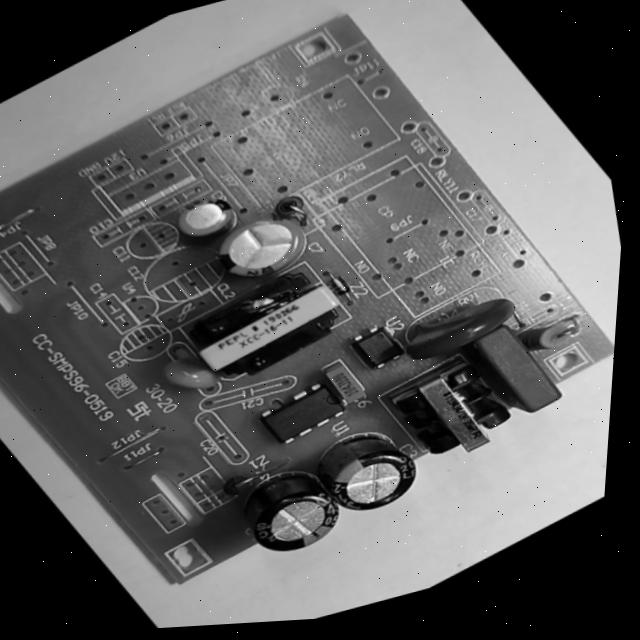Cap1: (178, 184, 345, 307)
Cap2: (144, 167, 271, 267)
Cap3: (285, 397, 446, 540)
Cap4: (202, 432, 376, 586)
MOSFET: (236, 365, 371, 463)
Mov: (369, 260, 548, 391)
Resistor: (503, 298, 602, 370)
Transformer: (146, 239, 381, 414), (360, 329, 547, 489)
